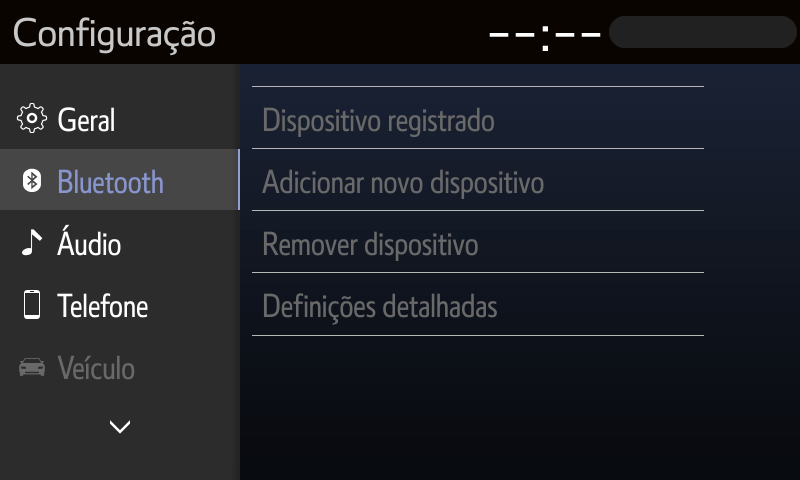touchPart: (13, 282, 185, 329), (11, 221, 133, 267), (9, 97, 138, 138), (100, 410, 146, 439)
untouchPart: (245, 266, 708, 339), (246, 206, 708, 277), (248, 144, 706, 215), (247, 82, 709, 152), (1, 145, 242, 211), (481, 11, 796, 54), (7, 11, 221, 55), (12, 345, 176, 393)
